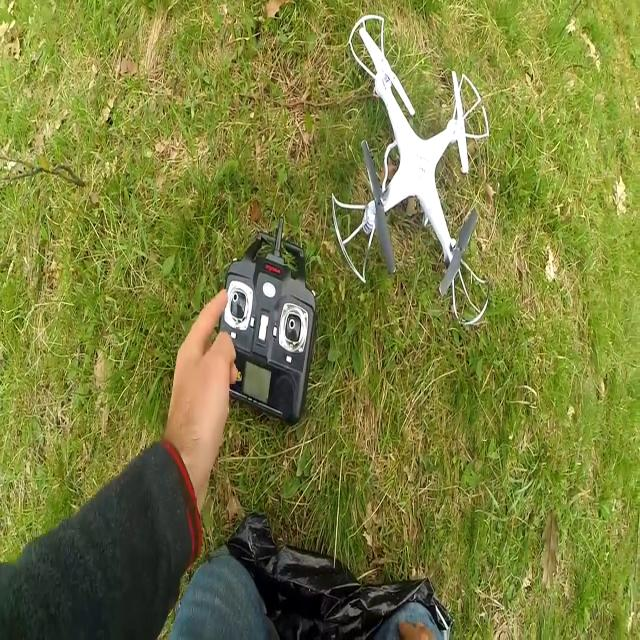drones: (334, 3, 494, 330)
